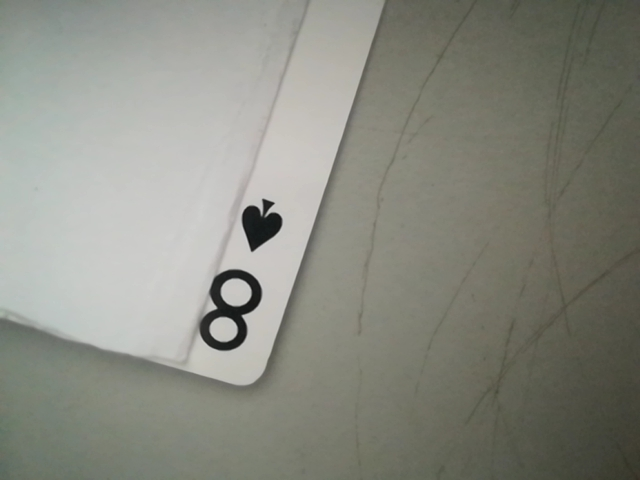ht 8: (183, 192, 297, 367)
